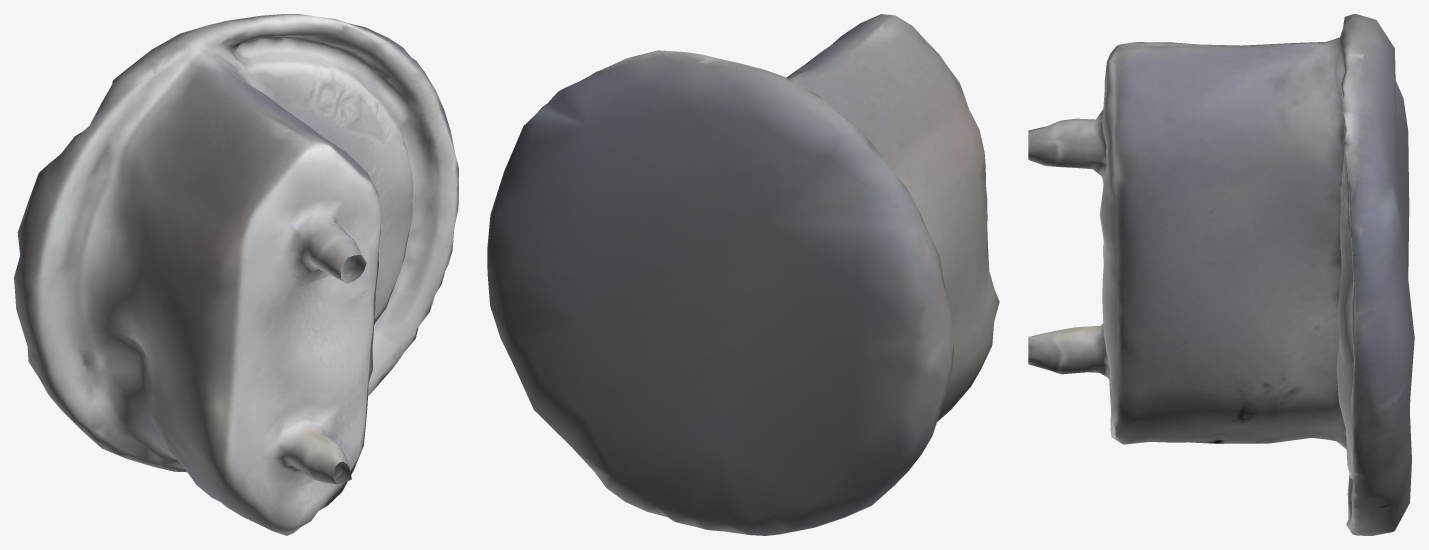
The model's file is TexturedMeshSimplified.obj.
The picture shows the model from 3 angles, left to right: view 1: azimuth 30°, elevation 25°; view 2: azimuth 150°, elevation 25°; view 3: azimuth 270°, elevation 25°; orthographic projection. The views are drawn at different scales.
Bounding box in the file's own units: 0.0388 × 0.0383 × 0.0287.
Materials: 1 (1 with a texture image).
